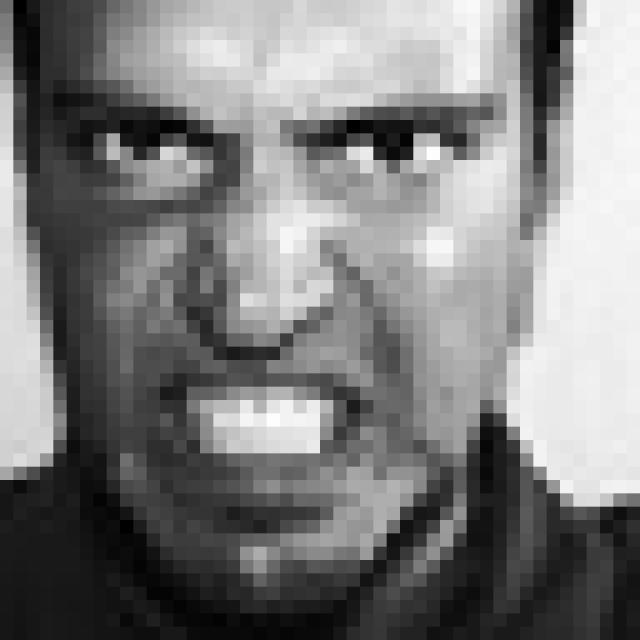angry: (51, 92, 510, 523)
